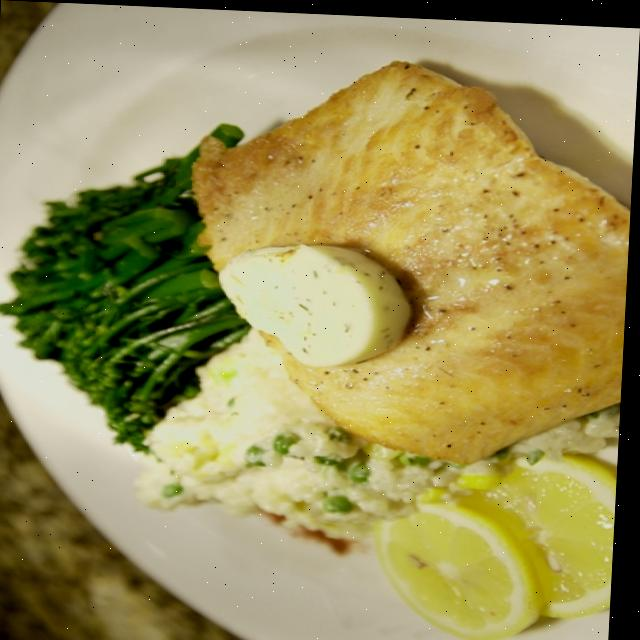熟制海鲜: (85, 35, 631, 609)
